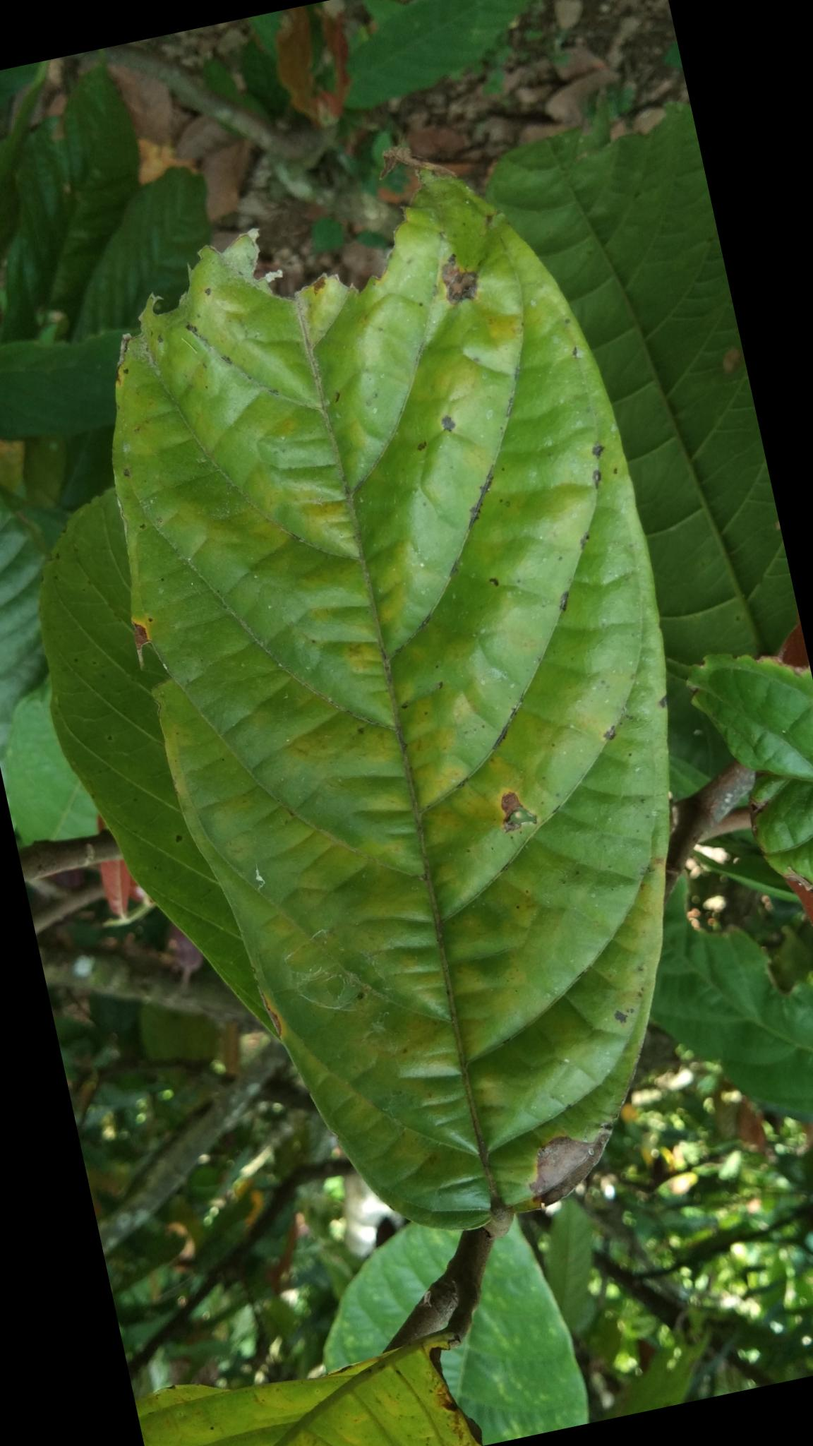Fosforo: (103, 154, 686, 1226)
